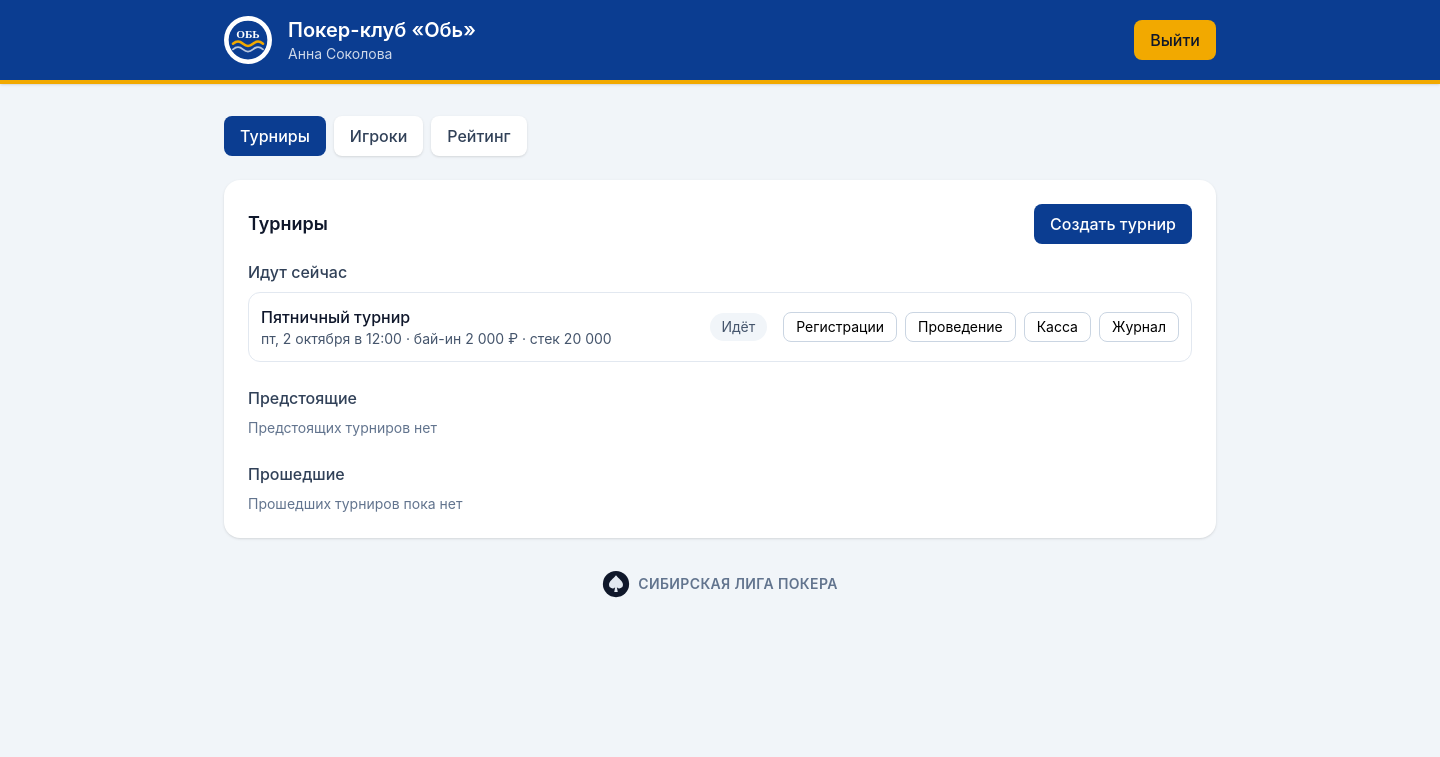
it: tournament cashier › sums the payments up by operation and by payment method
The width and height of the screenshot is (1440, 757).
Click the button "Касса". click: (1057, 327)
box: x1=1024 y1=312 x2=1091 y2=342
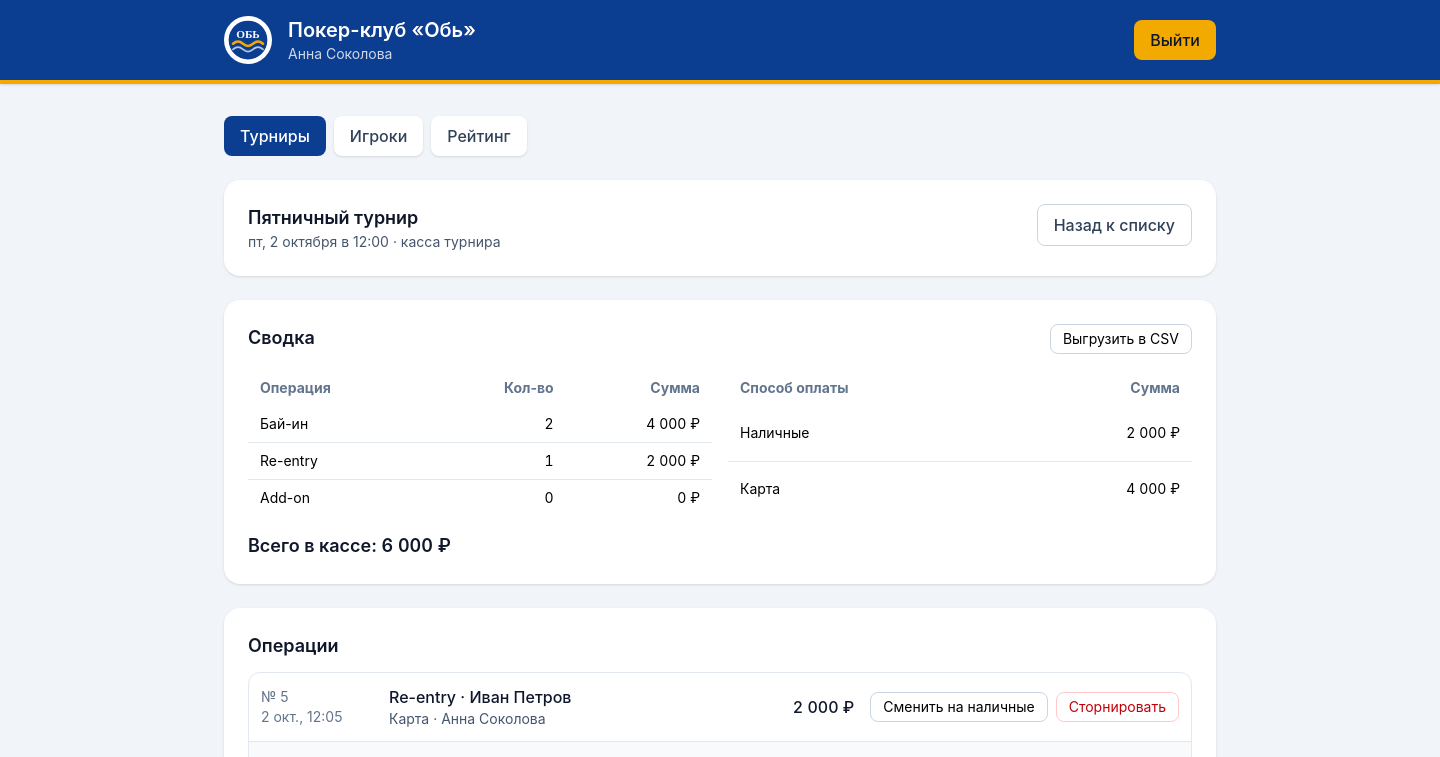
Expected: the heading "Пятничный турнир" is shown, x1=248 y1=207 x2=418 y2=228
Expected: the table named "По операциям" is shown, x1=248 y1=370 x2=712 y2=516
Expected: the text "Всего в кассе: 6 000 ₽" is shown, x1=248 y1=535 x2=451 y2=556
